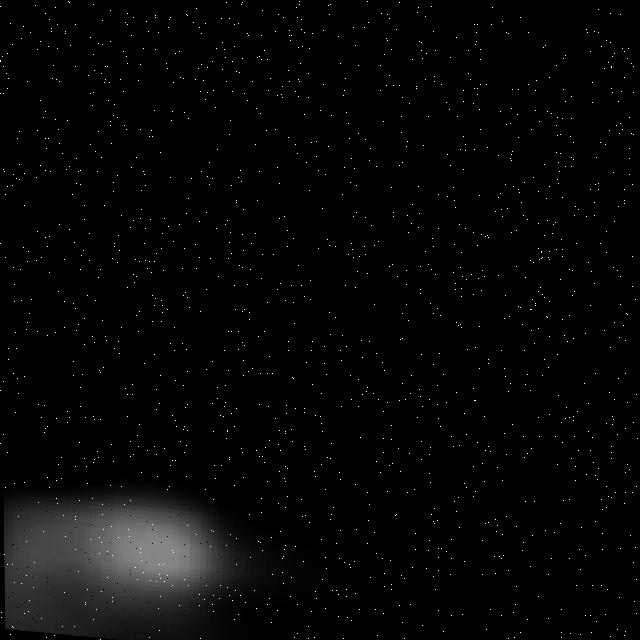person: (4, 446, 430, 640)
